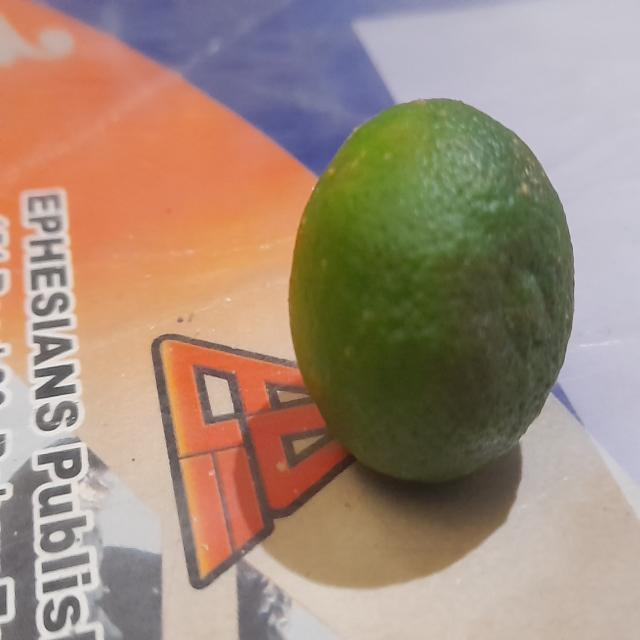heathy: (288, 90, 578, 484)
